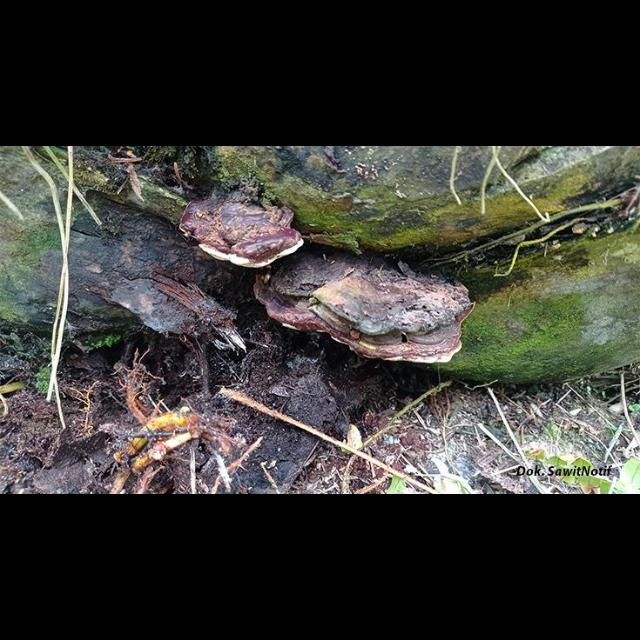ganoderma: (253, 264, 478, 365), (181, 196, 306, 270)
